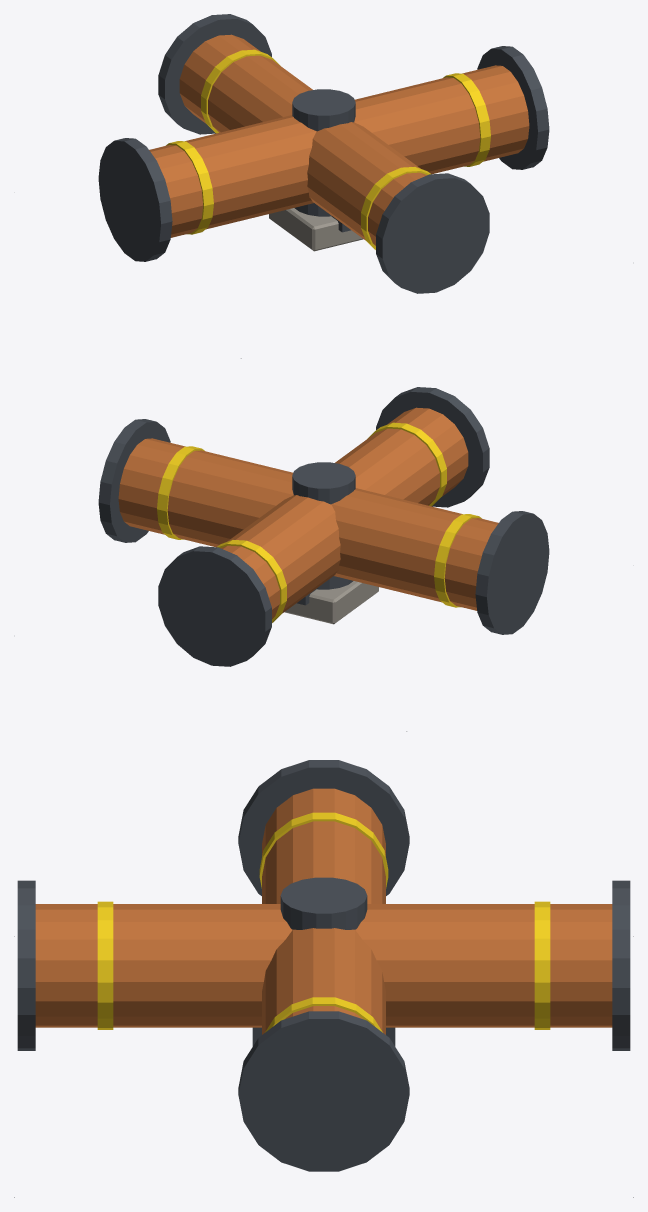
Rendered from tuyau_croix_t1.glb.
3 renders of one model, top to bottom at view 1: azimuth 30°, elevation 25°; view 2: azimuth 150°, elevation 25°; view 3: azimuth 270°, elevation 25°, orthographic. The views are drawn at different scales.
Visible parts, largest first — view 1: pieces_cuivre.016, pieces_acier_sombre.044, pieces_rive_t1.014, pieces_beton.044; view 2: pieces_cuivre.016, pieces_acier_sombre.044, pieces_rive_t1.014, pieces_beton.044; view 3: pieces_cuivre.016, pieces_acier_sombre.044, pieces_rive_t1.014.
Part boxes in pixels (x1,y1,x2,y2): pieces_cuivre.016: [149, 34, 529, 245]; pieces_acier_sombre.044: [98, 14, 549, 293]; pieces_rive_t1.014: [166, 49, 490, 249]; pieces_beton.044: [269, 208, 363, 251]; pieces_cuivre.016: [118, 407, 498, 618]; pieces_acier_sombre.044: [98, 387, 549, 666]; pieces_rive_t1.014: [157, 422, 481, 622]; pieces_beton.044: [284, 581, 378, 624]; pieces_cuivre.016: [35, 788, 612, 1034]; pieces_acier_sombre.044: [17, 760, 630, 1171]; pieces_rive_t1.014: [97, 812, 550, 1032].
Bounding box in the file's own units: 1 × 0.318 × 1.
